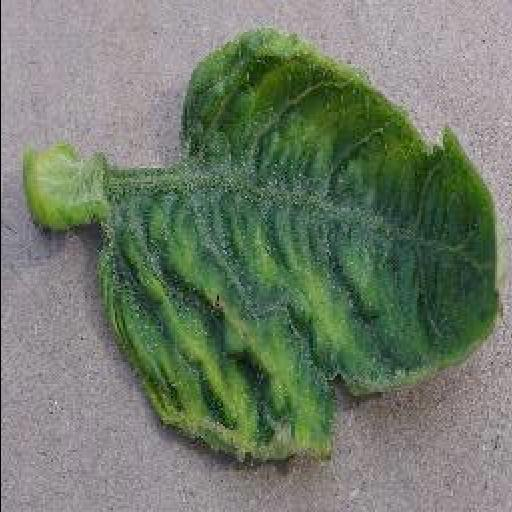disease_tomato: (94, 26, 506, 466)
